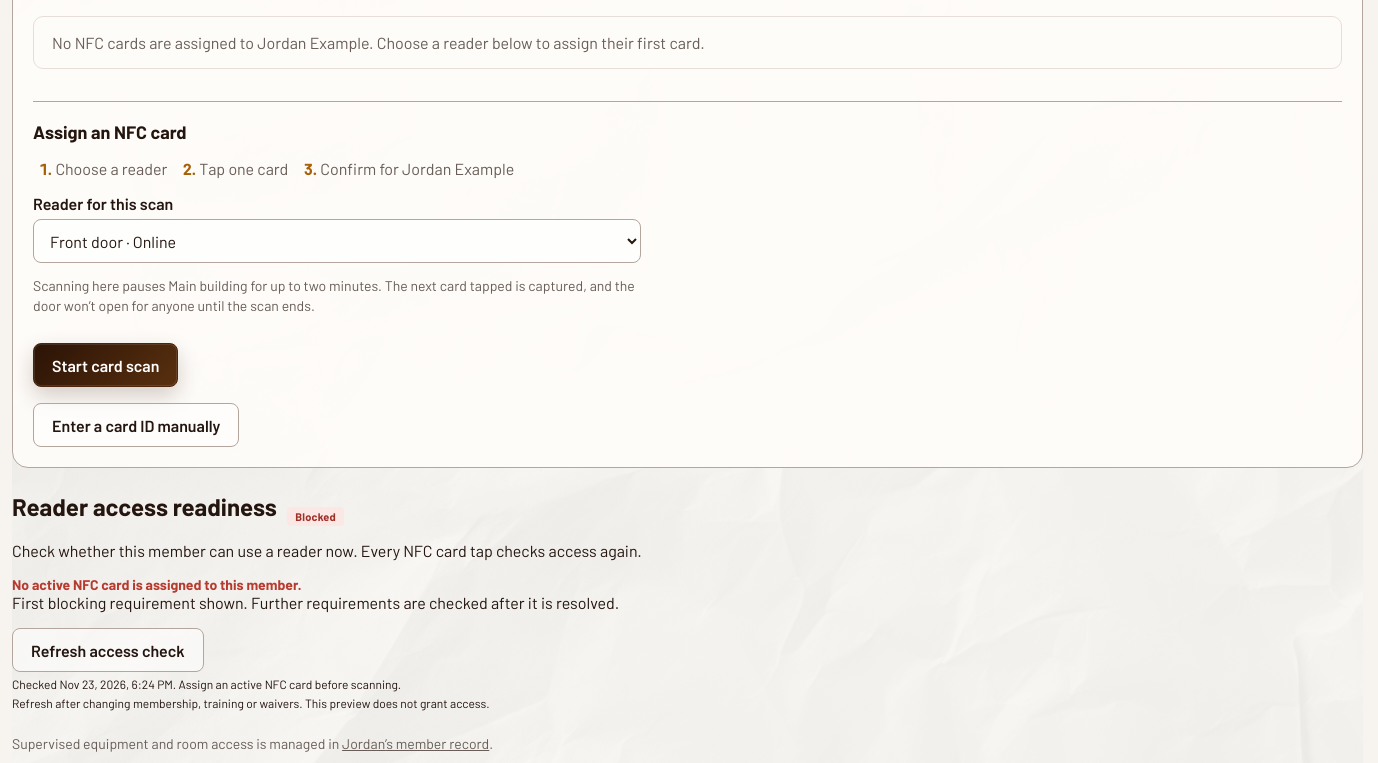
Test: manual ID help explains accepted lengths and bad input never reaches the server
(page scrolled)
Click the button "Enter a card ID manually" at (136, 425), box top-left (33, 403), bottom-right (239, 447)
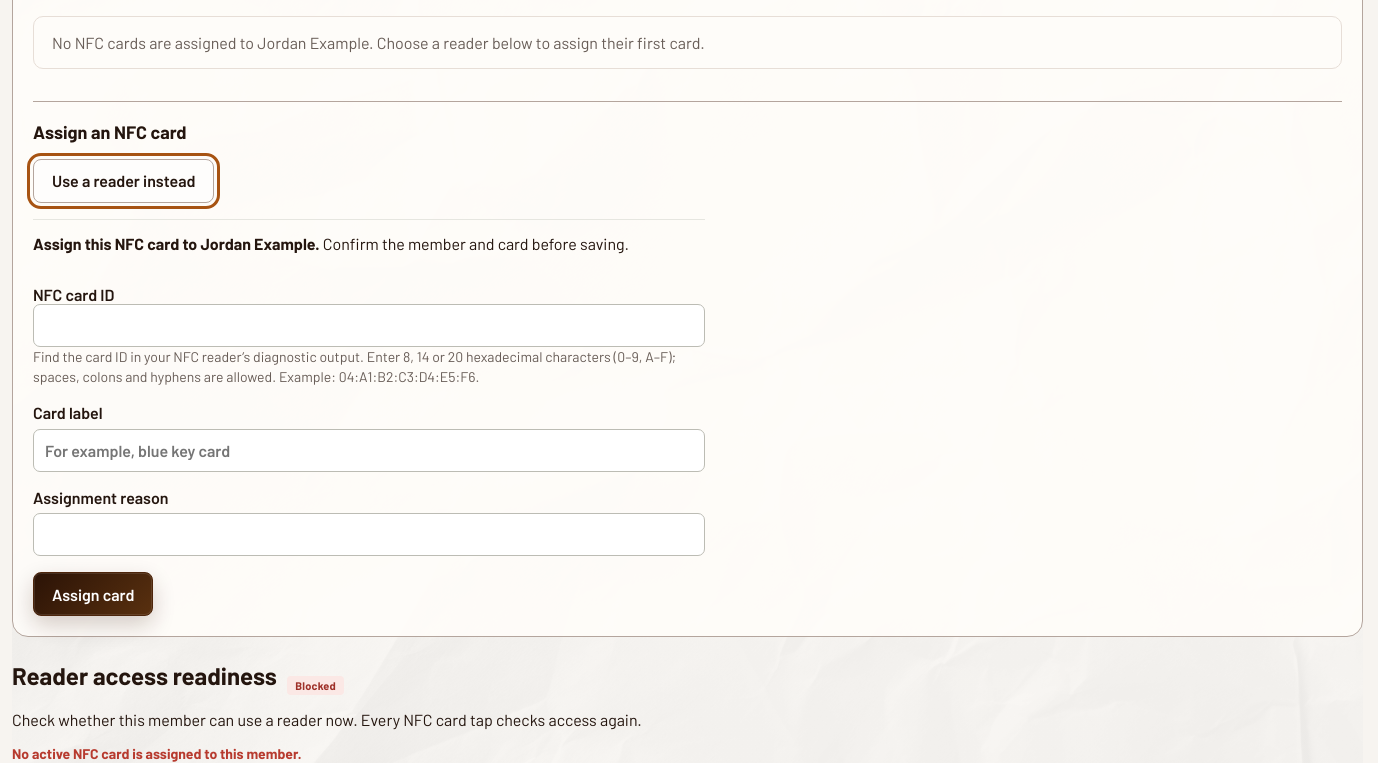
Type "123" into the field labelled "NFC card ID" at (369, 325), box top-left (33, 304), bottom-right (705, 347)
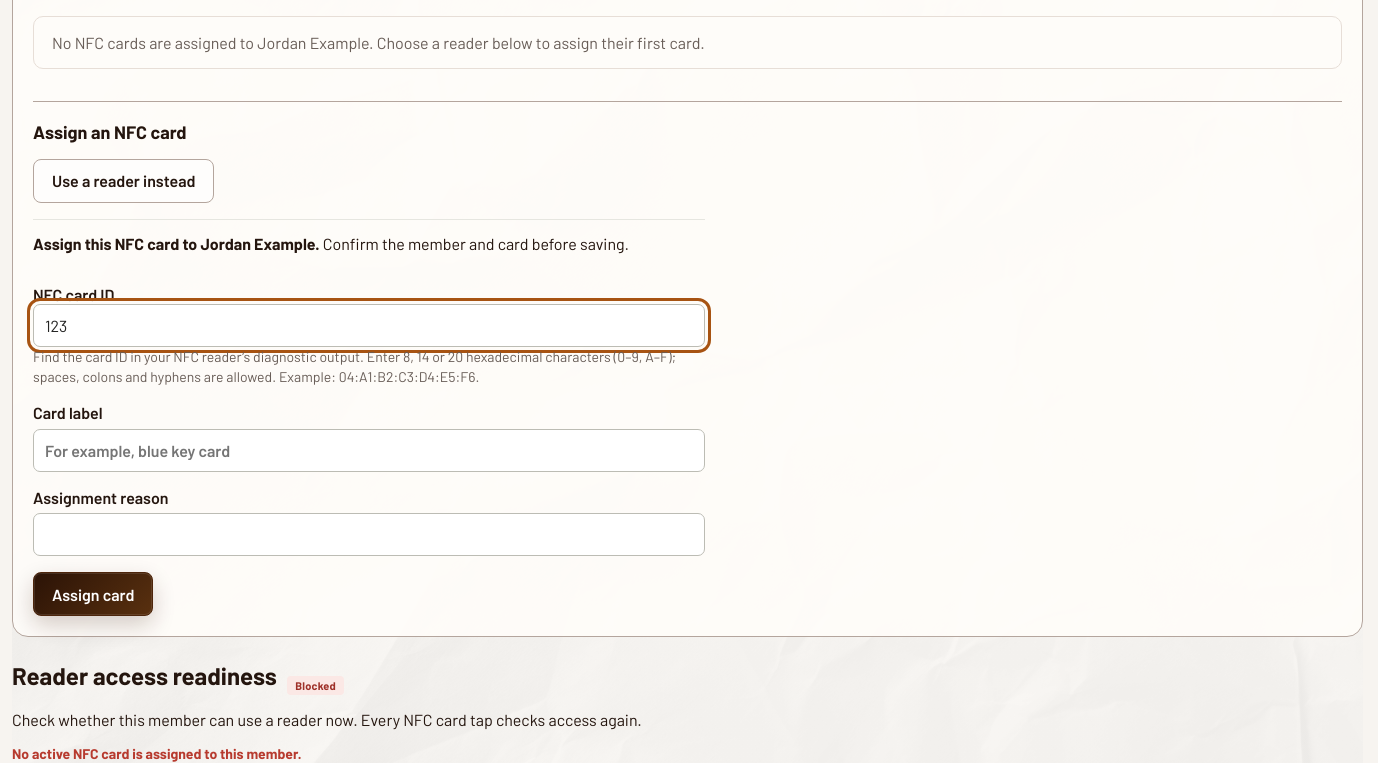
Type "New card" into the field labelled "Card label" at (369, 450), box top-left (33, 429), bottom-right (705, 472)
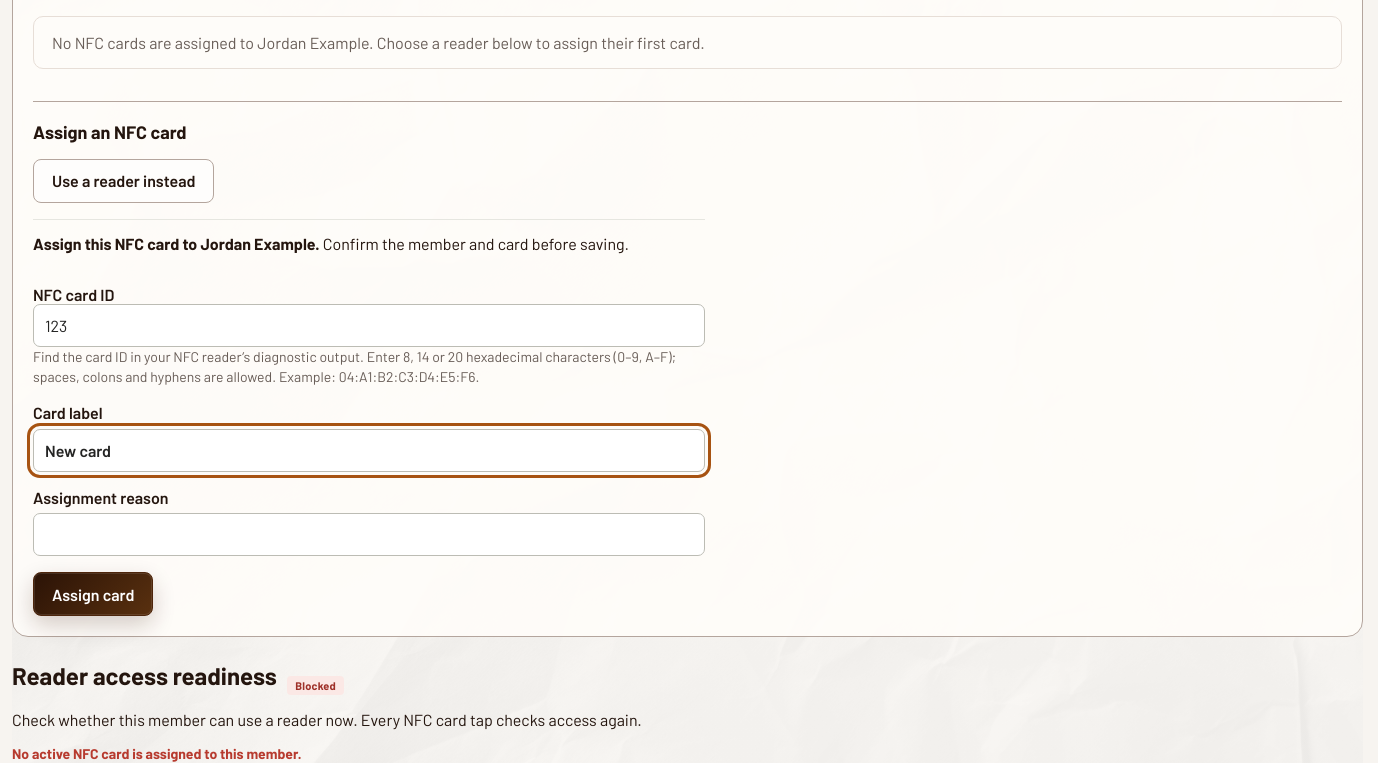
Type "Reason" into the field labelled "Assignment reason" at (369, 535), box top-left (33, 513), bottom-right (705, 556)
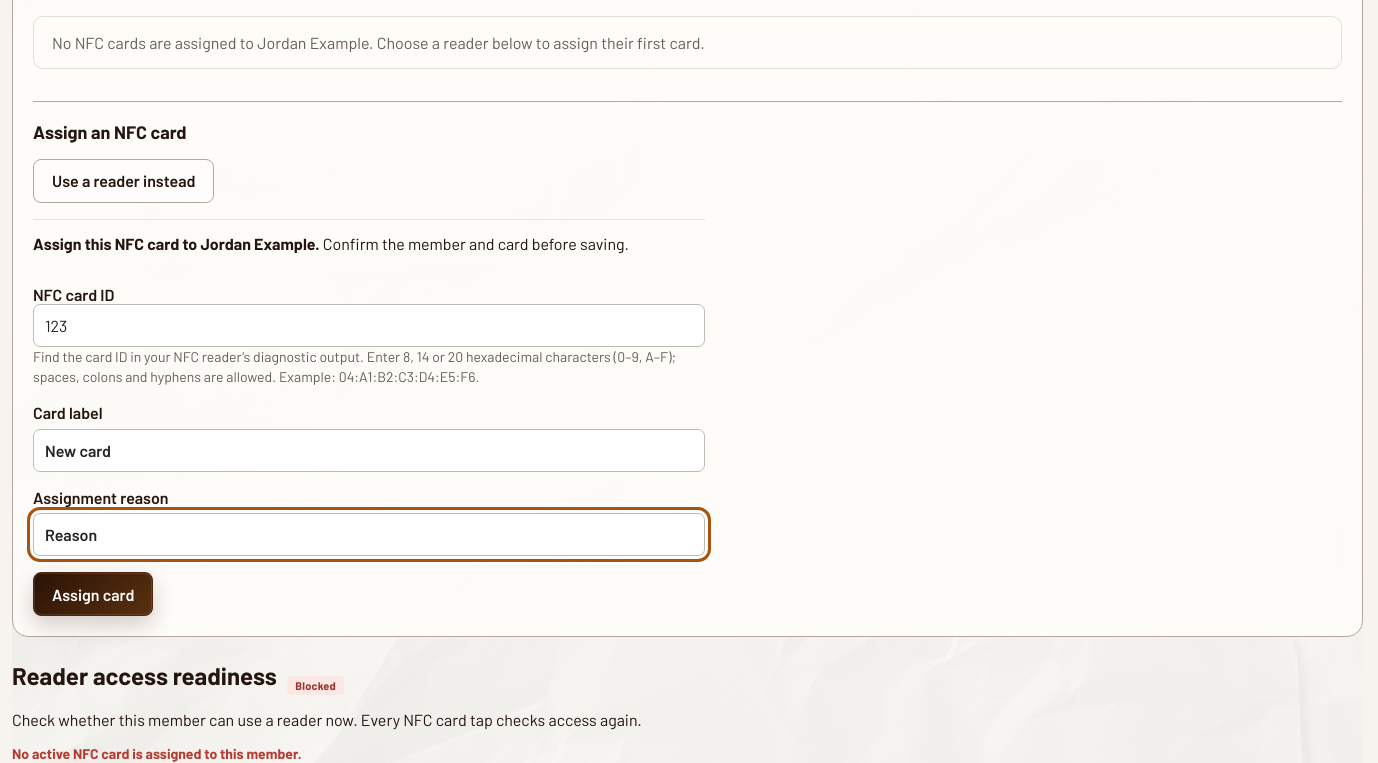
Click the button "Assign card" at (93, 594), box top-left (33, 572), bottom-right (153, 616)
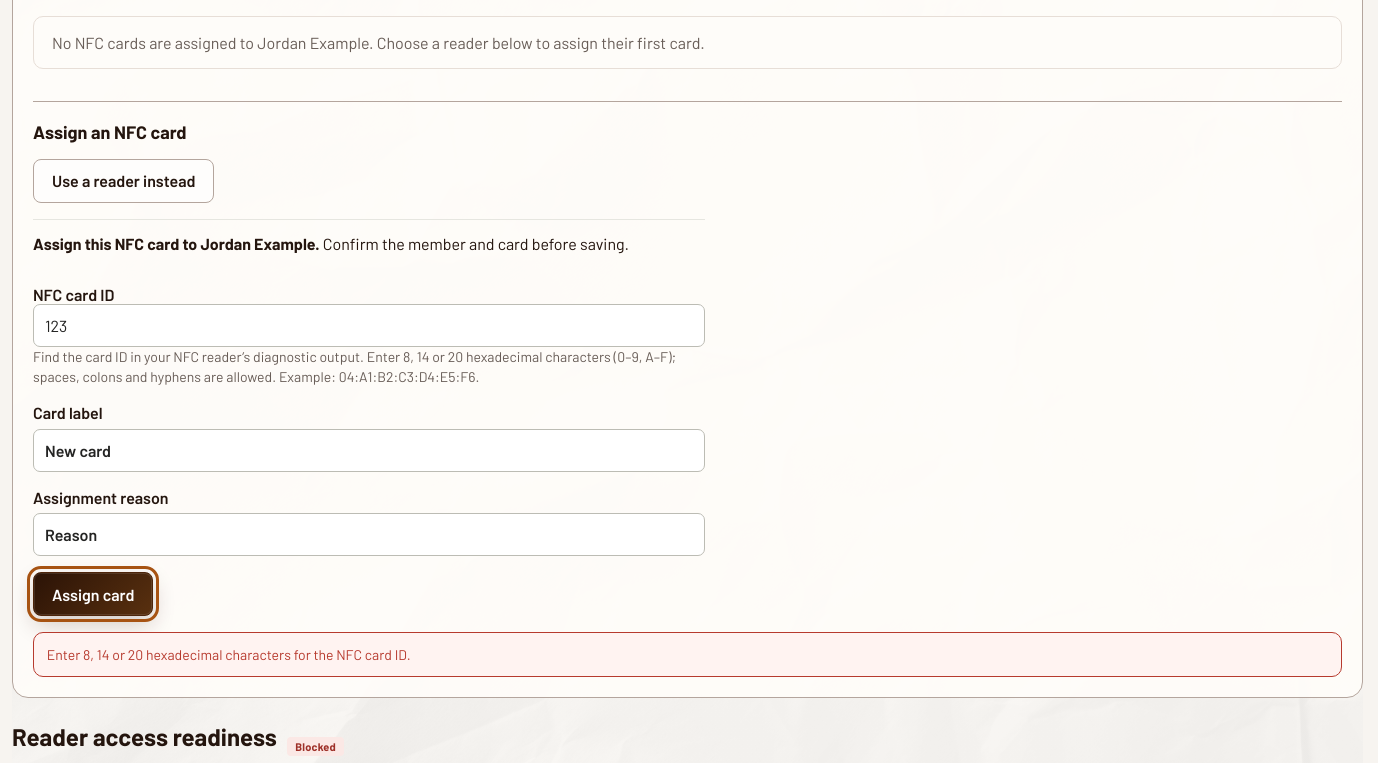
Now the text "Find the card ID in your NFC reader" is shown, box top-left (33, 348), bottom-right (676, 385)
Now the message shows "8, 14 or 20", box top-left (47, 646), bottom-right (411, 663)
